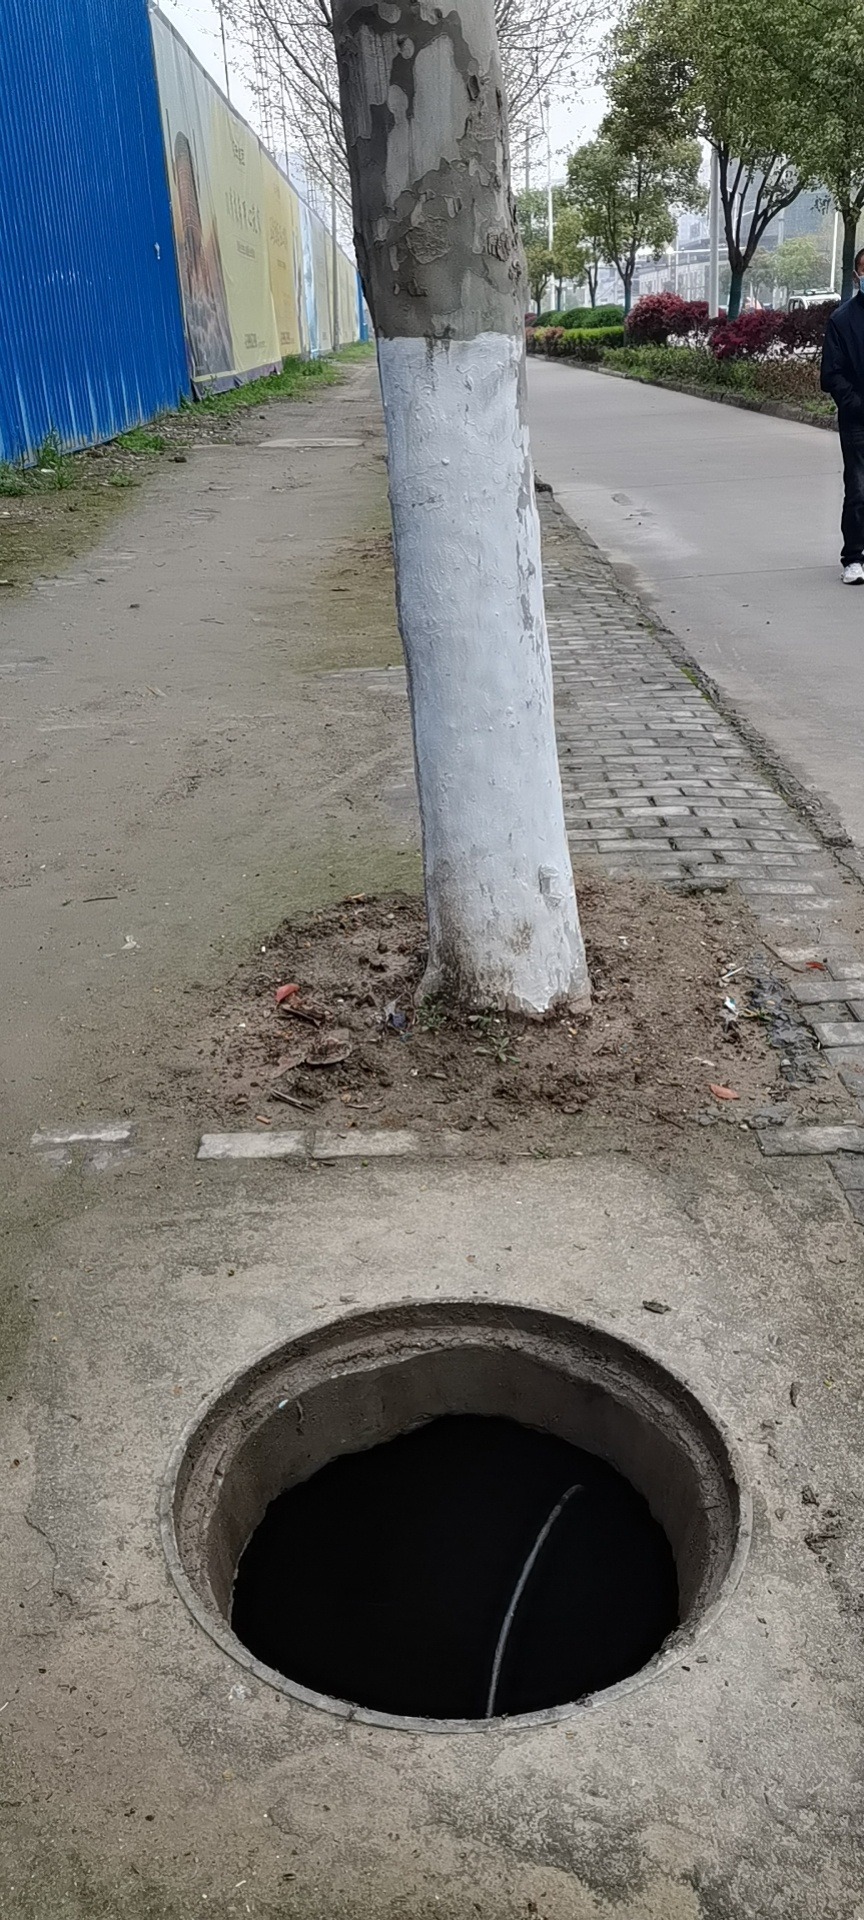lose: (155, 1288, 760, 1738)
